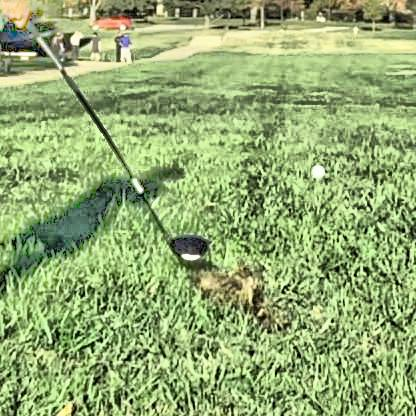golfball: (307, 162, 321, 176)
